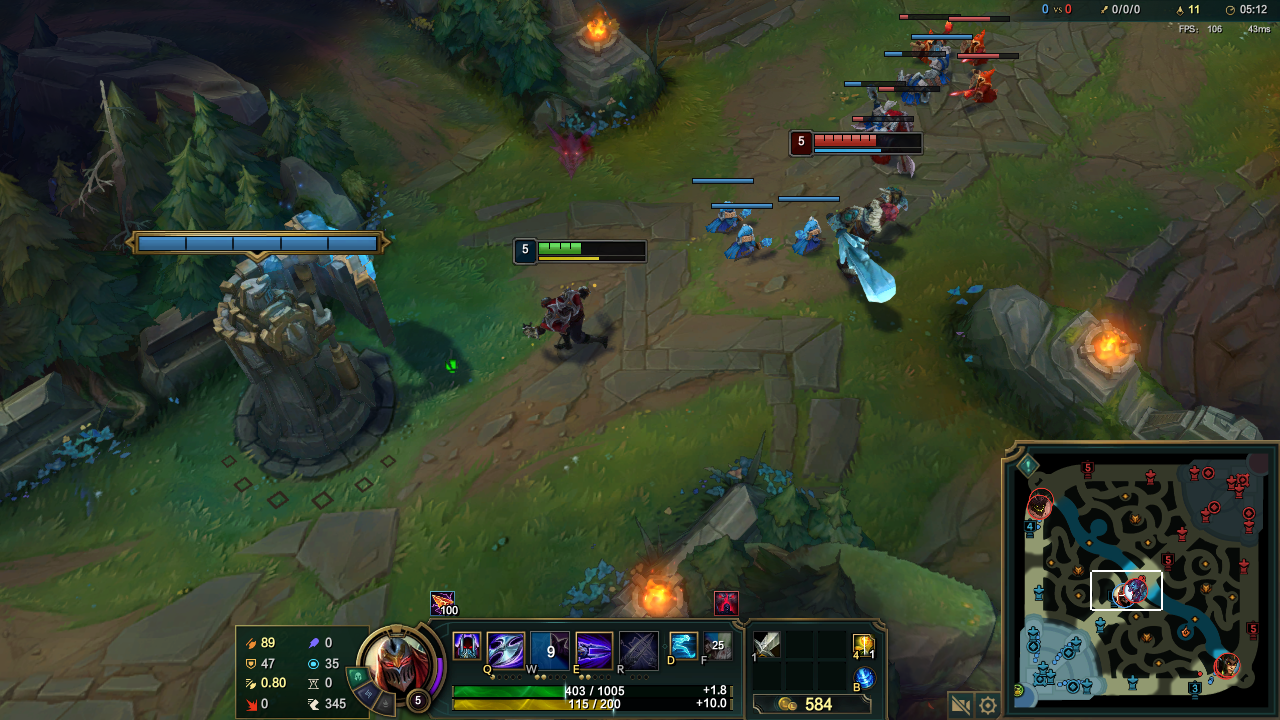DFYX: (814, 135, 924, 155)
